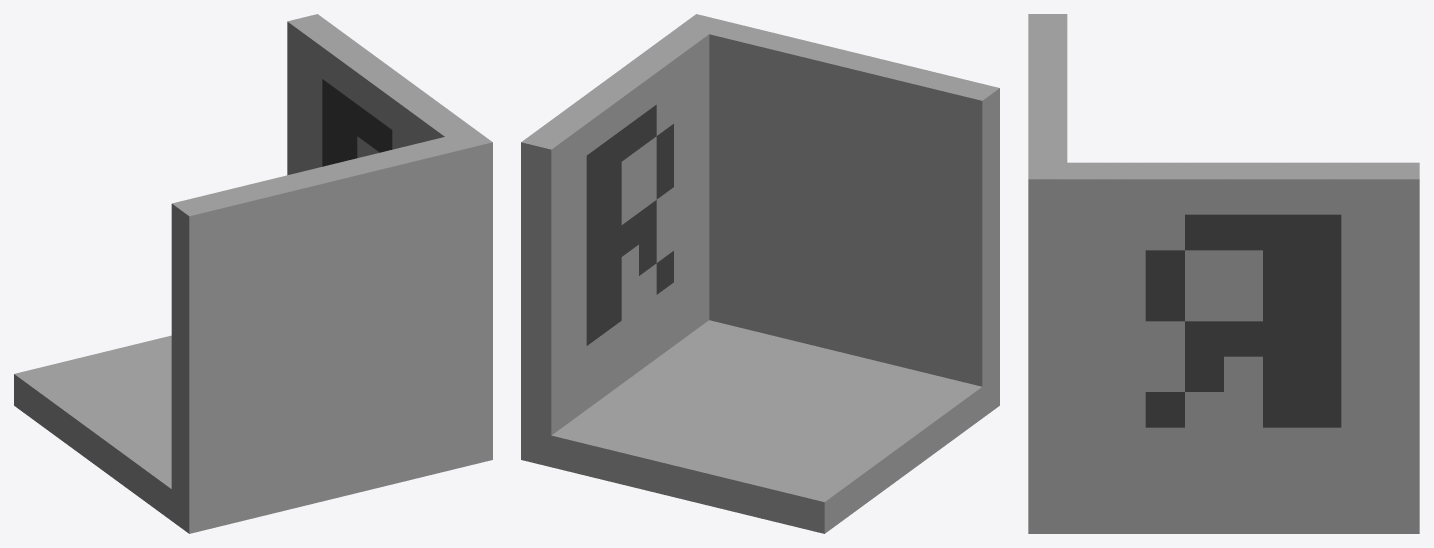
3 renders of one model, left to right at view 1: azimuth 30°, elevation 25°; view 2: azimuth 150°, elevation 25°; view 3: azimuth 270°, elevation 25°, orthographic. The views are drawn at different scales.
Parts seen in each view (by area): view 1: LT; view 2: LT; view 3: LT.
Boxes of the visible parts, box(x1,y1,x2,y2) form: LT: box(14, 14, 492, 533); LT: box(521, 14, 999, 533); LT: box(1028, 14, 1419, 533).
Bounding box in the file's own units: 10 × 10 × 10.
1 material, 1 textured.
